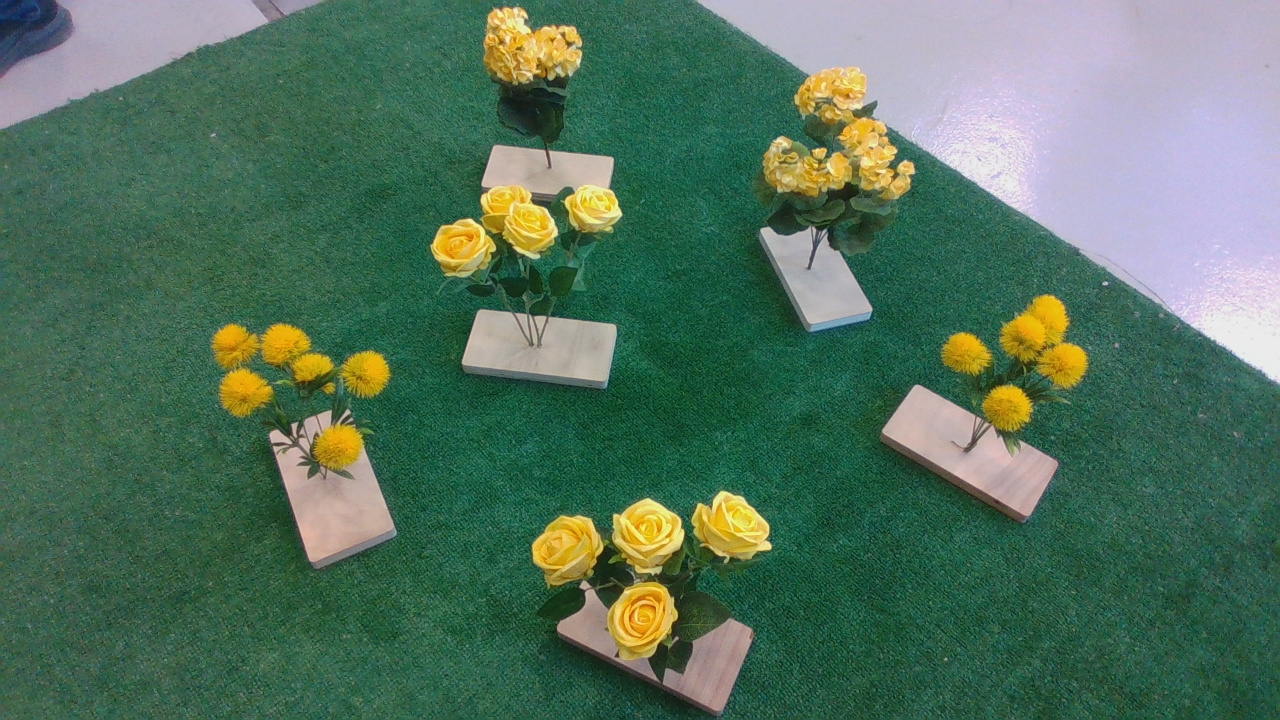dandelion: (198, 319, 404, 487), (943, 288, 1103, 463)
geranium: (744, 65, 926, 265), (477, 7, 592, 157)
rose: (527, 482, 803, 695), (430, 185, 648, 315)
